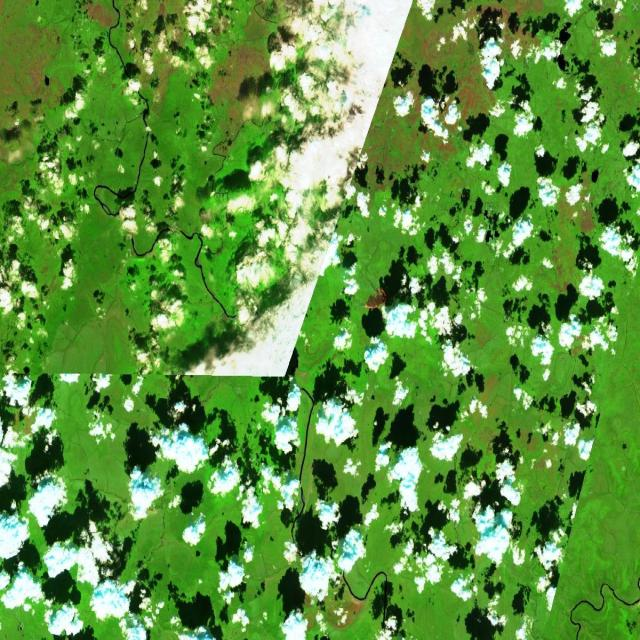fire: (361, 284, 391, 316)
